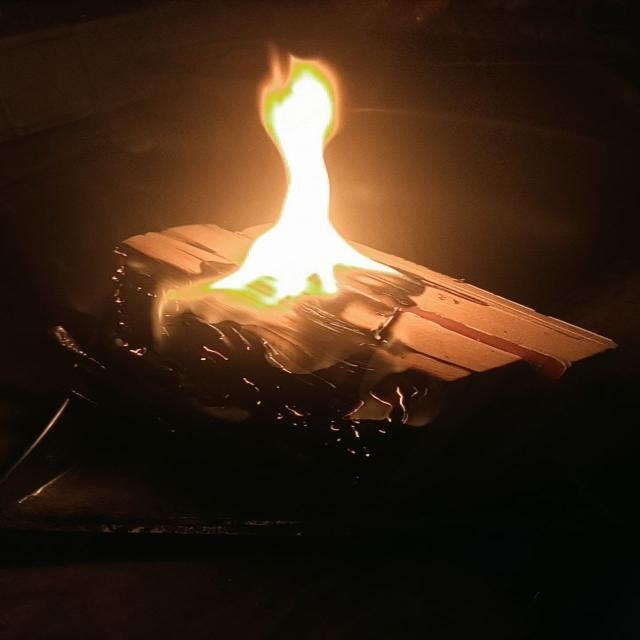fire: (206, 53, 406, 303)
